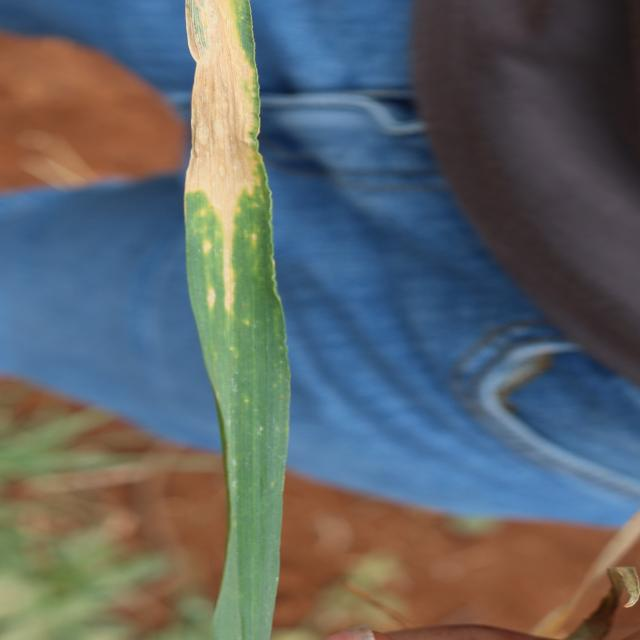Septoria: (180, 1, 293, 637)
